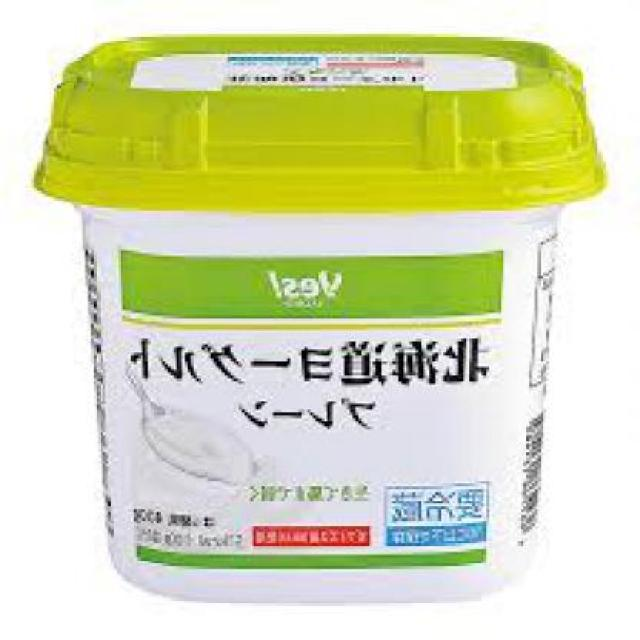PLASTIC: (37, 34, 609, 600), (37, 31, 609, 204)
